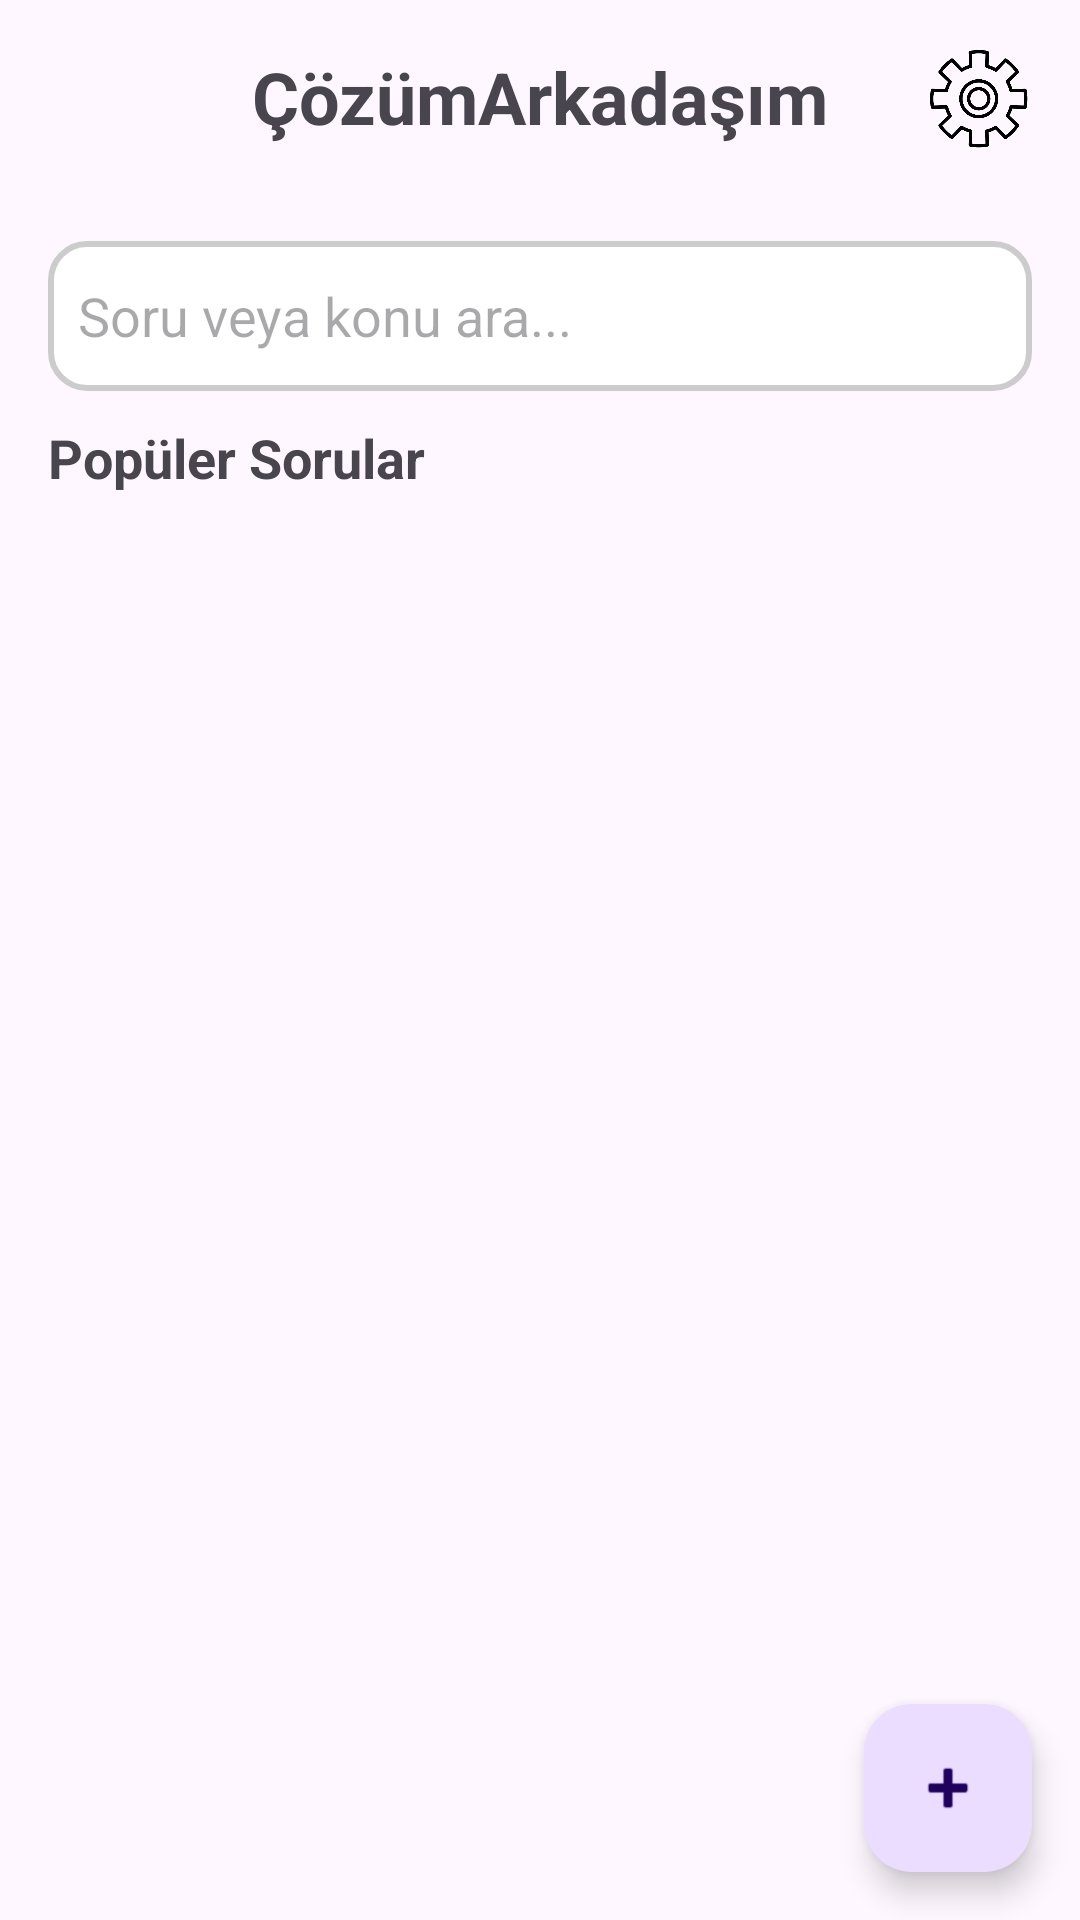

Point at icon controls on the screen. Image size 1080px×1920px, points as (x=x, y=y).
Soru Ekle: (x=948, y=1788)
